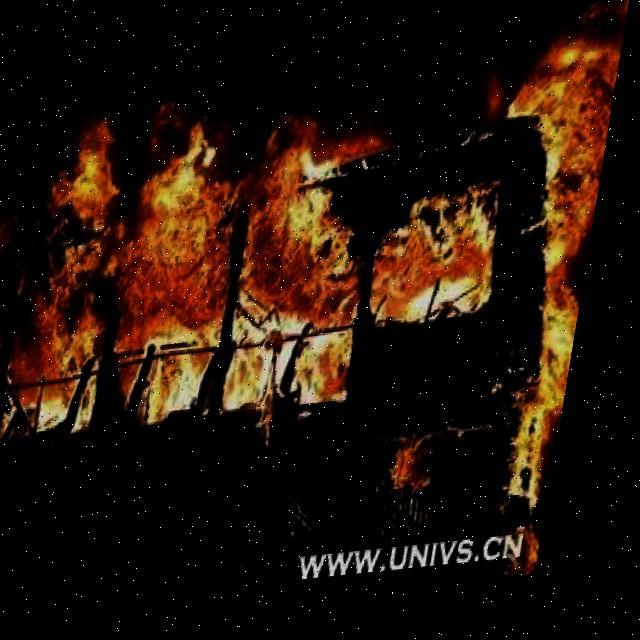Fire: (0, 28, 623, 554)
